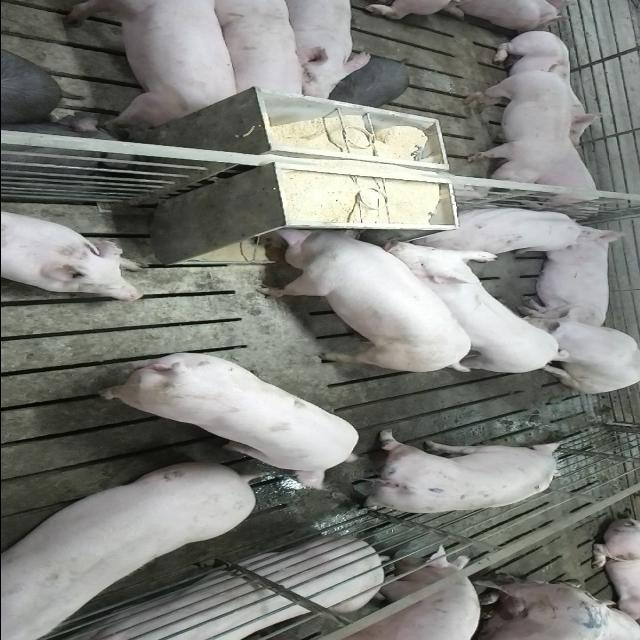Feeding: (251, 219, 475, 369)
Lateral_lying: (52, 539, 483, 640), (514, 224, 628, 328)
Sitting: (508, 306, 639, 394)
Standing: (0, 466, 258, 640), (89, 347, 356, 488), (376, 241, 564, 379), (60, 1, 243, 131), (342, 431, 568, 516), (288, 545, 478, 640), (462, 67, 574, 194), (206, 3, 310, 108), (270, 0, 370, 102)
Sternal_lying: (482, 31, 610, 146), (0, 207, 146, 303), (524, 141, 604, 213)
